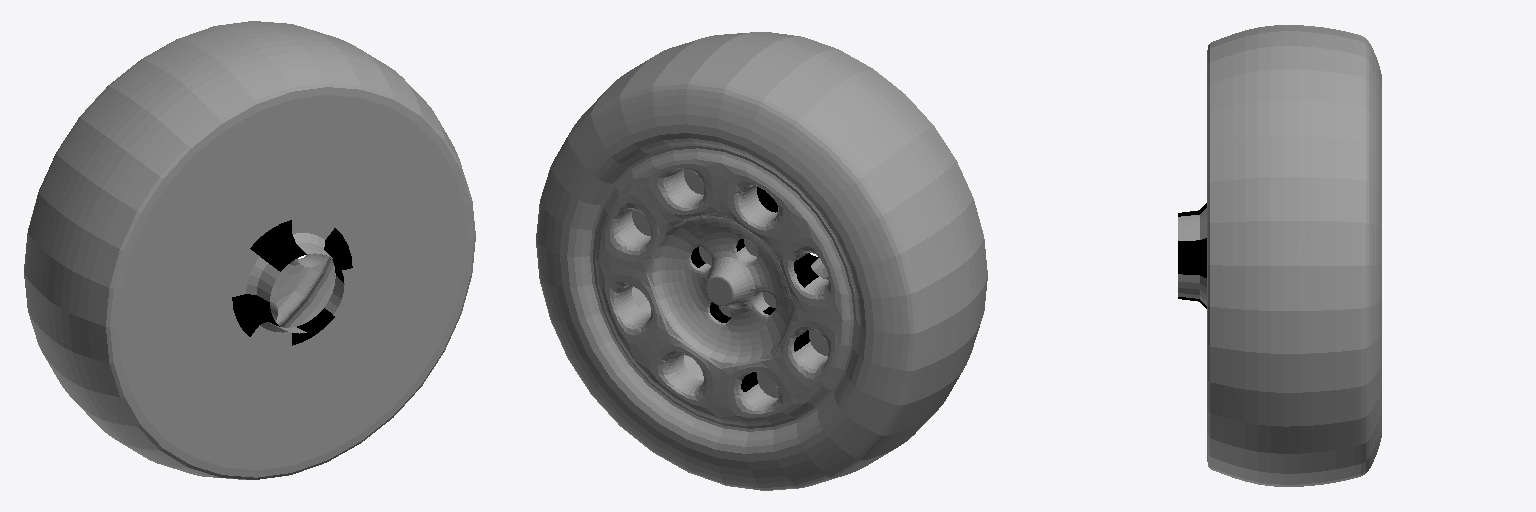
Rendered from llantadef2.obj.
The picture shows the model from 3 angles: view 1: azimuth 30°, elevation 25°; view 2: azimuth 150°, elevation 25°; view 3: azimuth 270°, elevation 25°; orthographic projection.
Parts seen in each view (by area): view 1: Cube_001_Malla; view 2: Cube_001_Malla; view 3: Cube_001_Malla.
Part boxes in pixels (x1,y1,x2,y2): Cube_001_Malla: (24, 21, 475, 479); Cube_001_Malla: (536, 32, 987, 490); Cube_001_Malla: (1178, 25, 1381, 486).
Size of the model in its own units: 3.02 by 3.02 by 1.33.